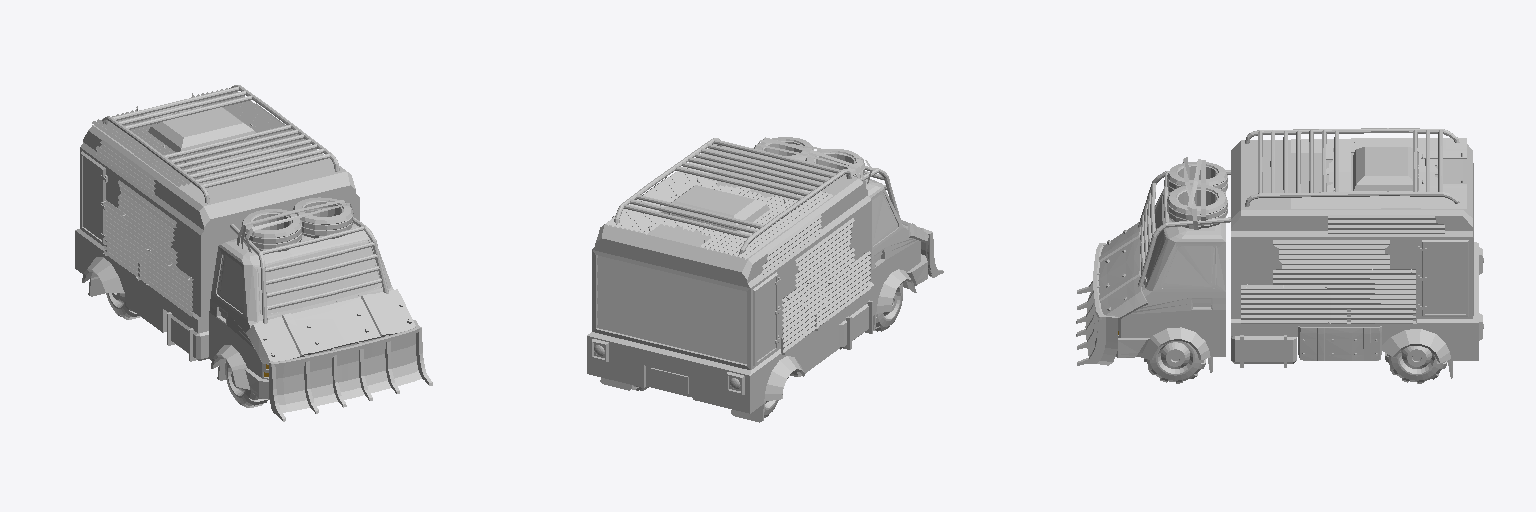
The model's file is Vehicle_Truck_Armored.obj.
3 views of the same model, side by side, from view 1: azimuth 30°, elevation 25°; view 2: azimuth 150°, elevation 25°; view 3: azimuth 270°, elevation 25° (orthographic).
Parts seen in each view (by area): view 1: Truck_Armored_Cylinder.035, FrontWheel_R_Cylinder.000; view 2: Truck_Armored_Cylinder.035, FrontWheel_R_Cylinder.000; view 3: Truck_Armored_Cylinder.035, FrontWheel_L_Cylinder.002, BackWheels_Cylinder.001.
Part boxes in pixels (left/top/right/bottom): Truck_Armored_Cylinder.035: left=75, top=85, right=432, bottom=421; FrontWheel_R_Cylinder.000: left=225, top=360, right=267, bottom=407; Truck_Armored_Cylinder.035: left=587, top=137, right=943, bottom=422; FrontWheel_R_Cylinder.000: left=873, top=283, right=902, bottom=331; Truck_Armored_Cylinder.035: left=1076, top=128, right=1483, bottom=378; FrontWheel_L_Cylinder.002: left=1144, top=341, right=1205, bottom=383; BackWheels_Cylinder.001: left=1385, top=346, right=1447, bottom=383.
Size of the model in its own units: 2.98 by 2.9 by 5.59.